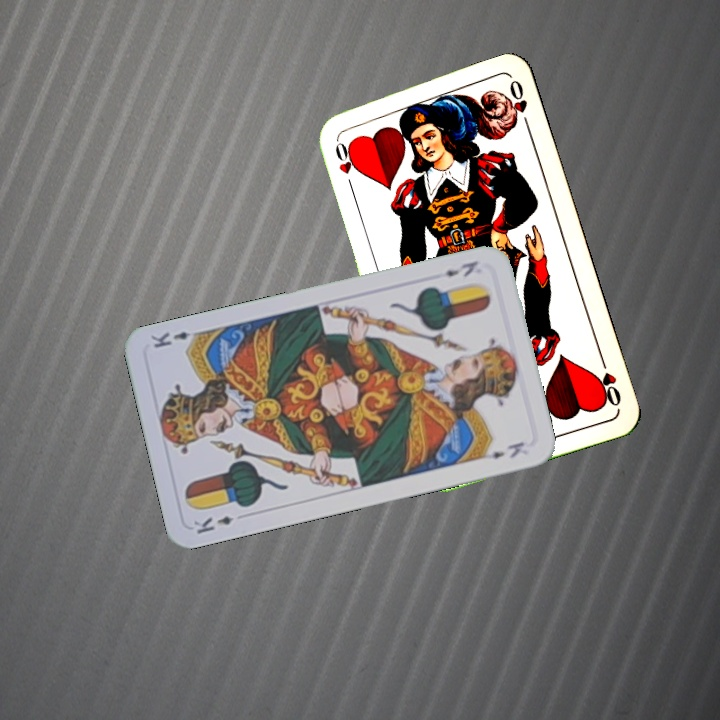EK: (189, 512, 236, 537), (441, 256, 481, 280)
HO: (592, 353, 624, 409), (331, 133, 360, 177)
